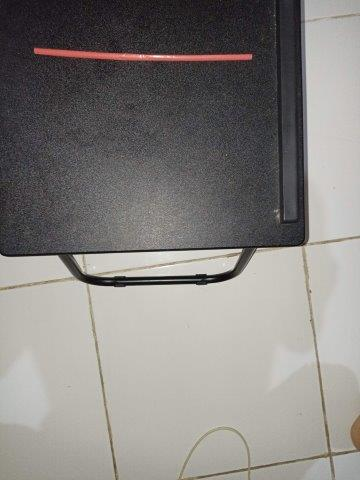sedotan: (34, 47, 252, 61)
